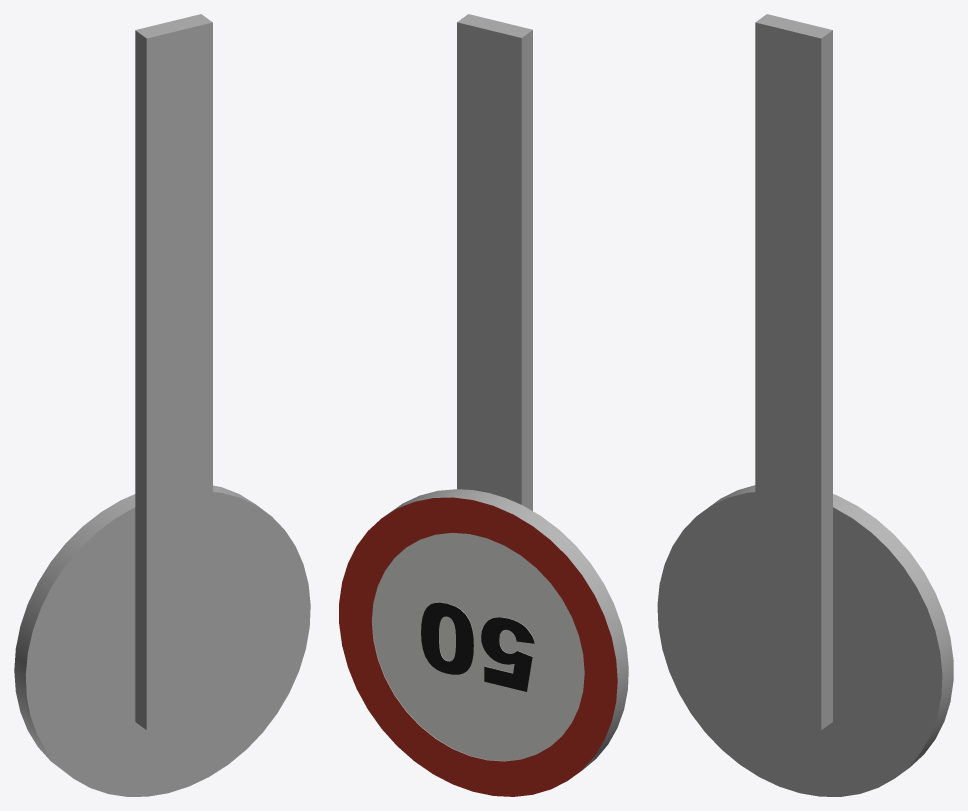
3 views of the same model, side by side, from view 1: azimuth 30°, elevation 25°; view 2: azimuth 150°, elevation 25°; view 3: azimuth 330°, elevation 25° (orthographic). The views are drawn at different scales.
Parts seen in each view (by area): view 1: Body1_Paint - Enamel Glossy (Grey); view 2: Body1_Paint - Enamel Glossy (Grey), Body1_Paint - Enamel Glossy (White), Body1_Paint - Enamel Glossy (Red), Body1_Paint - Enamel Glossy (Black); view 3: Body1_Paint - Enamel Glossy (Grey).
Boxes of the visible parts, x1=… form: Body1_Paint - Enamel Glossy (Grey): x1=14, y1=14, x2=310, y2=796; Body1_Paint - Enamel Glossy (Grey): x1=371, y1=14, x2=628, y2=777; Body1_Paint - Enamel Glossy (White): x1=372, y1=533, x2=584, y2=761; Body1_Paint - Enamel Glossy (Red): x1=339, y1=497, x2=617, y2=796; Body1_Paint - Enamel Glossy (Black): x1=421, y1=602, x2=534, y2=691; Body1_Paint - Enamel Glossy (Grey): x1=657, y1=14, x2=953, y2=796.
Size of the model in its own units: 0.2155 by 0.5574 by 0.0301.
